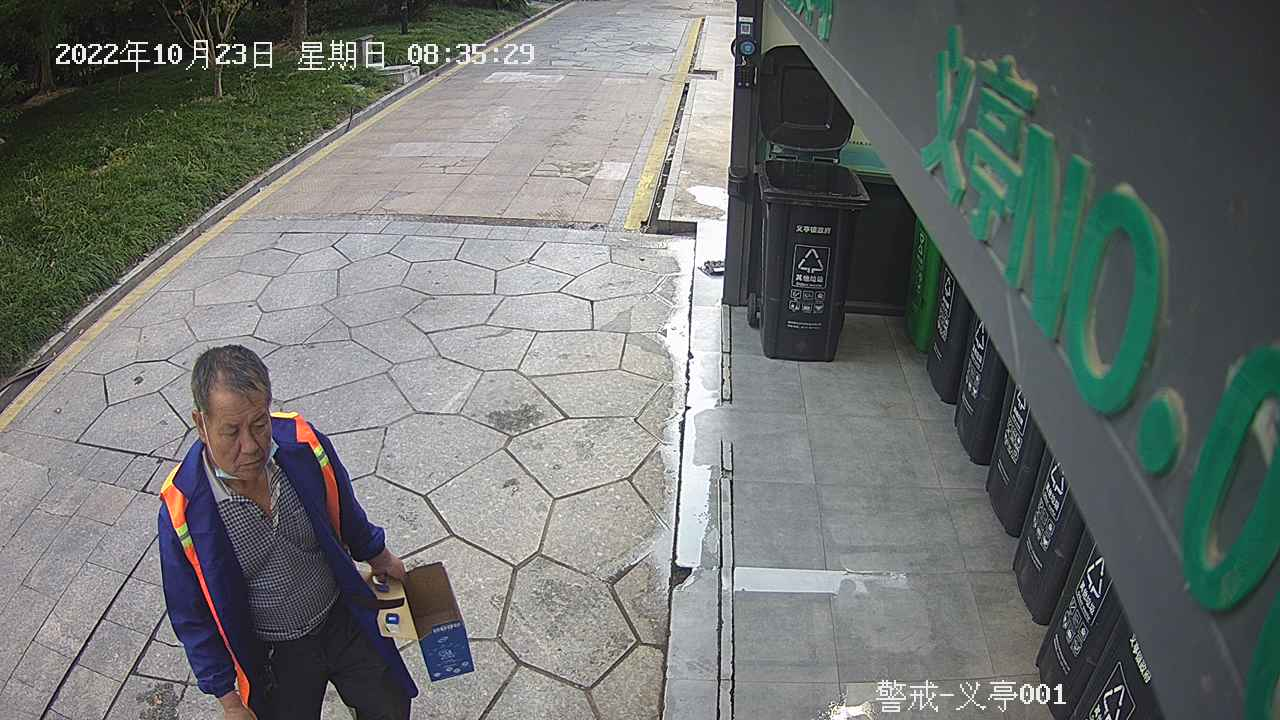worker: (149, 339, 421, 720)
zhizhipin: (358, 556, 479, 688)
